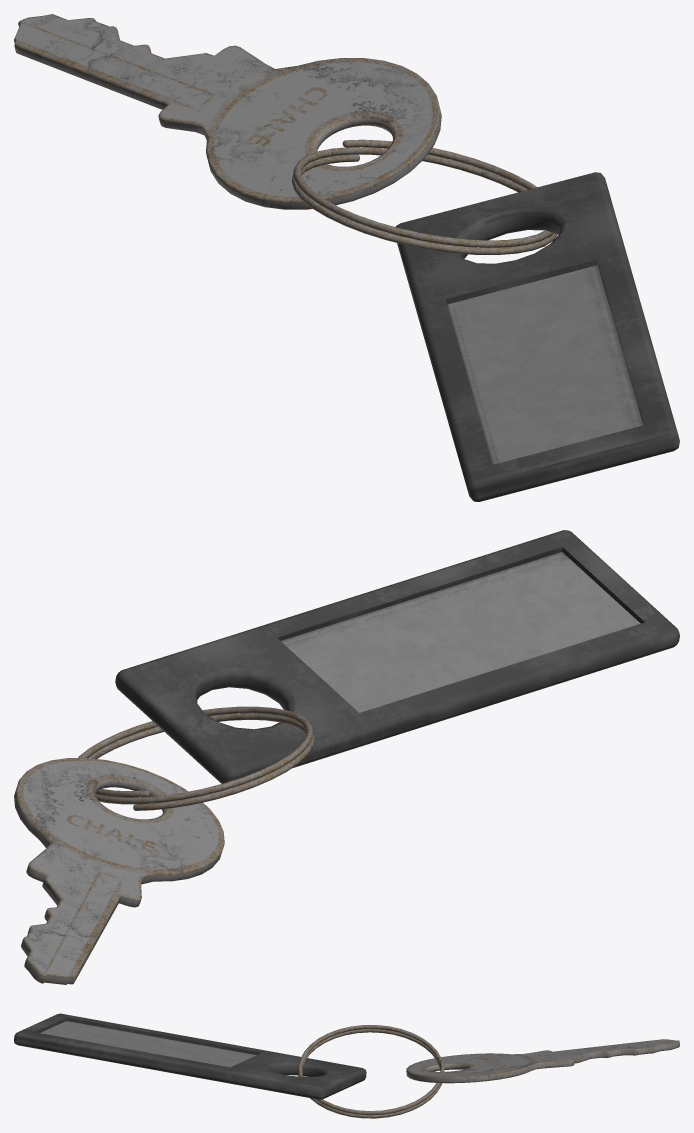
File: keys.obj
3 views of the same model, one above another, from view 1: azimuth 30°, elevation 25°; view 2: azimuth 150°, elevation 25°; view 3: azimuth 270°, elevation 25° (orthographic). The views are drawn at different scales.
Parts seen in each view (by area): view 1: SM_KeyTag_KeyTag_0, SM_Key_Key_0, SM_Ring_Ring_0; view 2: SM_KeyTag_KeyTag_0, SM_Key_Key_0, SM_Ring_Ring_0; view 3: SM_KeyTag_KeyTag_0, SM_Key_Key_0, SM_Ring_Ring_0.
Boxes of the visible parts, box(x1,y1,x2,y2) form: SM_KeyTag_KeyTag_0: box(396, 172, 679, 501); SM_Key_Key_0: box(14, 14, 441, 209); SM_Ring_Ring_0: box(292, 139, 557, 254); SM_KeyTag_KeyTag_0: box(115, 530, 679, 783); SM_Key_Key_0: box(14, 758, 224, 984); SM_Ring_Ring_0: box(78, 706, 314, 810); SM_KeyTag_KeyTag_0: box(14, 1013, 366, 1099); SM_Key_Key_0: box(406, 1039, 679, 1083); SM_Ring_Ring_0: box(298, 1025, 444, 1118).
Bounding box in the file's own units: 0.0492 × 0.0083 × 0.1395.
3 materials, 3 textured.
